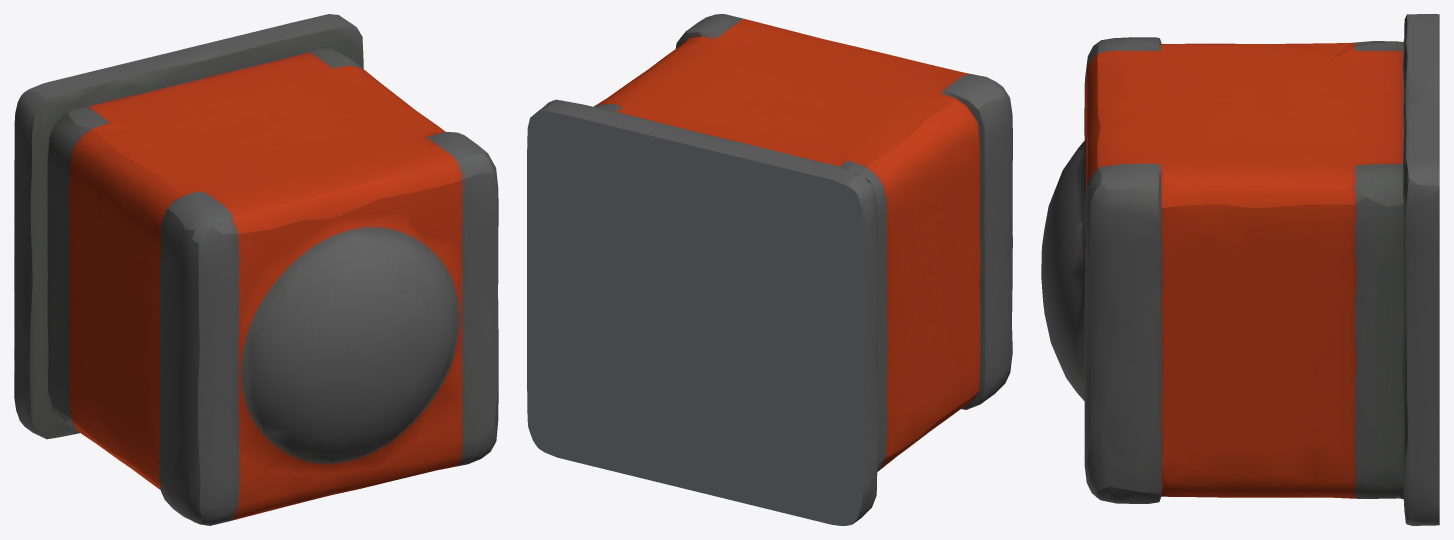
File: fabricator_mk1.glb
3 views of the same model, side by side, from view 1: azimuth 30°, elevation 25°; view 2: azimuth 150°, elevation 25°; view 3: azimuth 270°, elevation 25° (orthographic). The views are drawn at different scales.
Parts seen in each view (by area): view 1: part; view 2: part; view 3: part.
Part boxes in pixels (x1,y1,x2,y2): part: [14, 14, 498, 525]; part: [527, 14, 1012, 525]; part: [1041, 14, 1439, 525].
Bounding box in the file's own units: 3 × 2.95 × 2.95.
2 materials, 1 textured.
